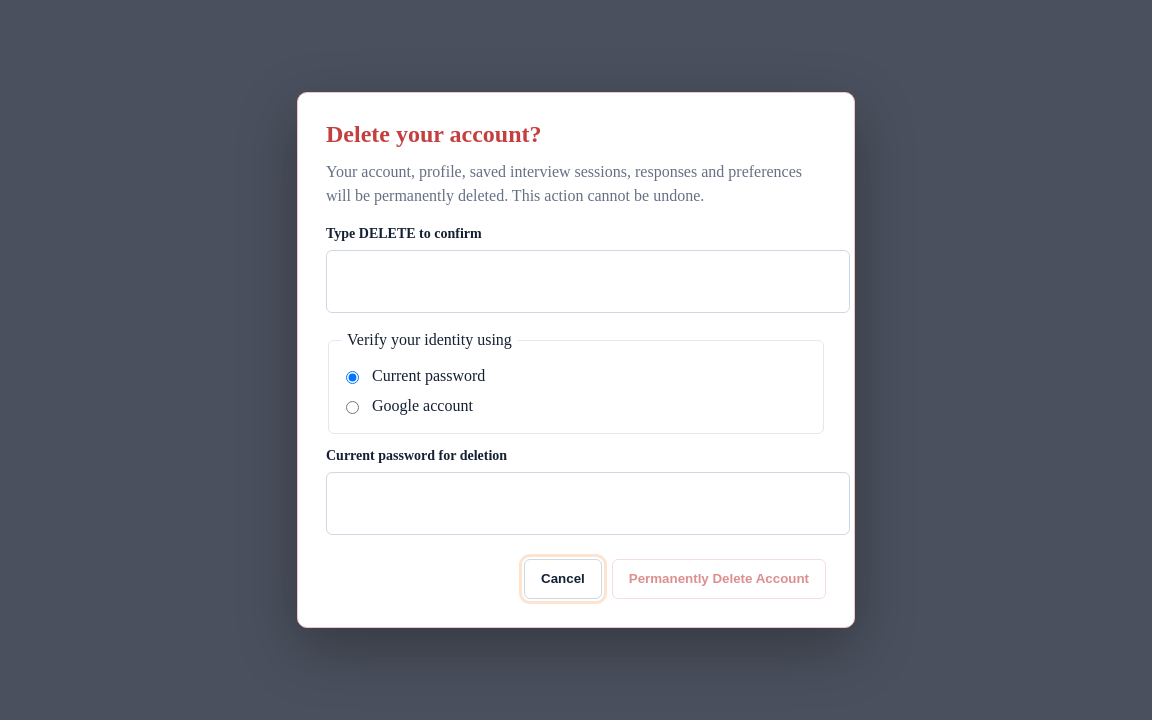
Scenario: requires exact DELETE and password
This screenshot has width=1152, height=720.
Expected: the button "Permanently Delete Account" is disabled, x1=612 y1=559 x2=826 y2=599
Type "delete" into the field labelled "Type DELETE to confirm". click: (588, 282)
box: x1=326 y1=250 x2=850 y2=313
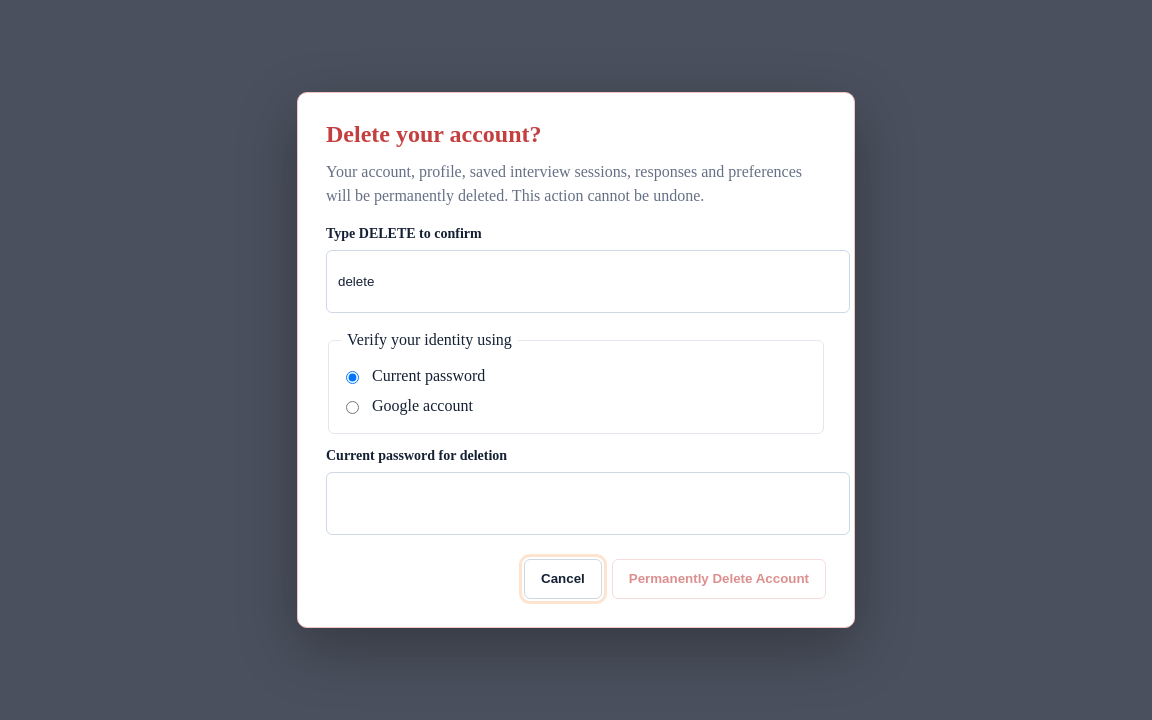
Expected: the button "Permanently Delete Account" is disabled, x1=612 y1=559 x2=826 y2=599
Replace the text in the field labelled "Type DELETE to confirm" with "DELETE". click: (588, 282)
box: x1=326 y1=250 x2=850 y2=313
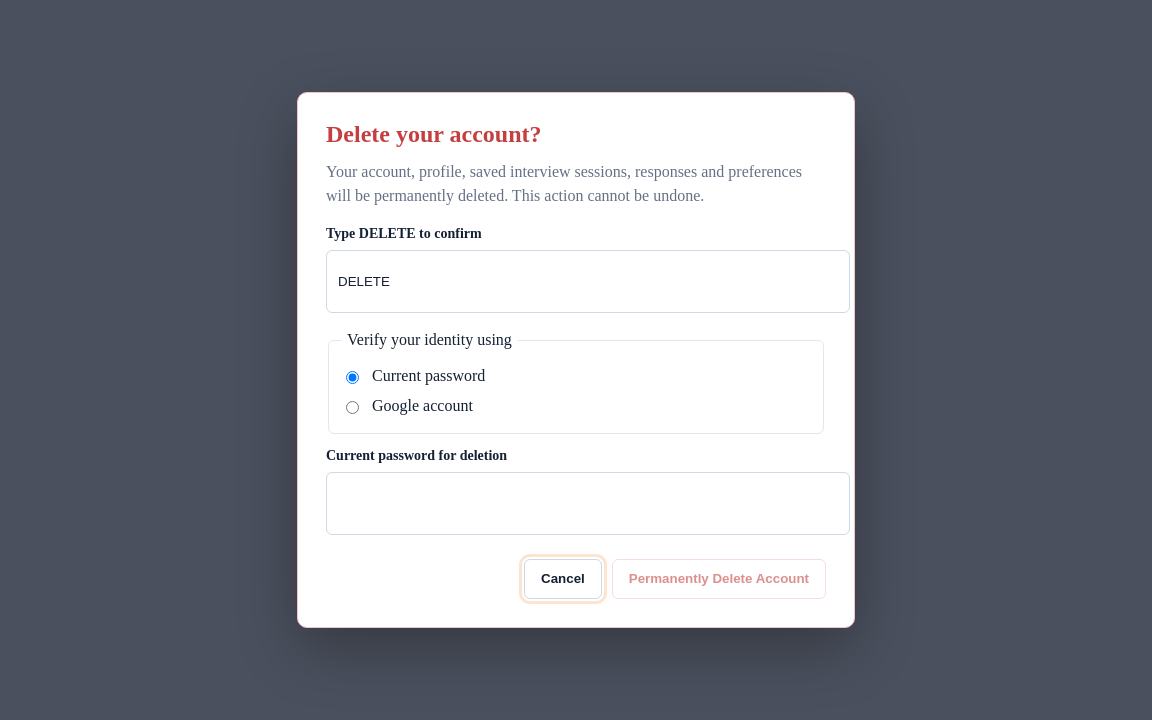
Expected: the button "Permanently Delete Account" is disabled, x1=612 y1=559 x2=826 y2=599
Type "my-password" into the password field labelled "Current password for deletion". click: (588, 504)
box: x1=326 y1=472 x2=850 y2=535
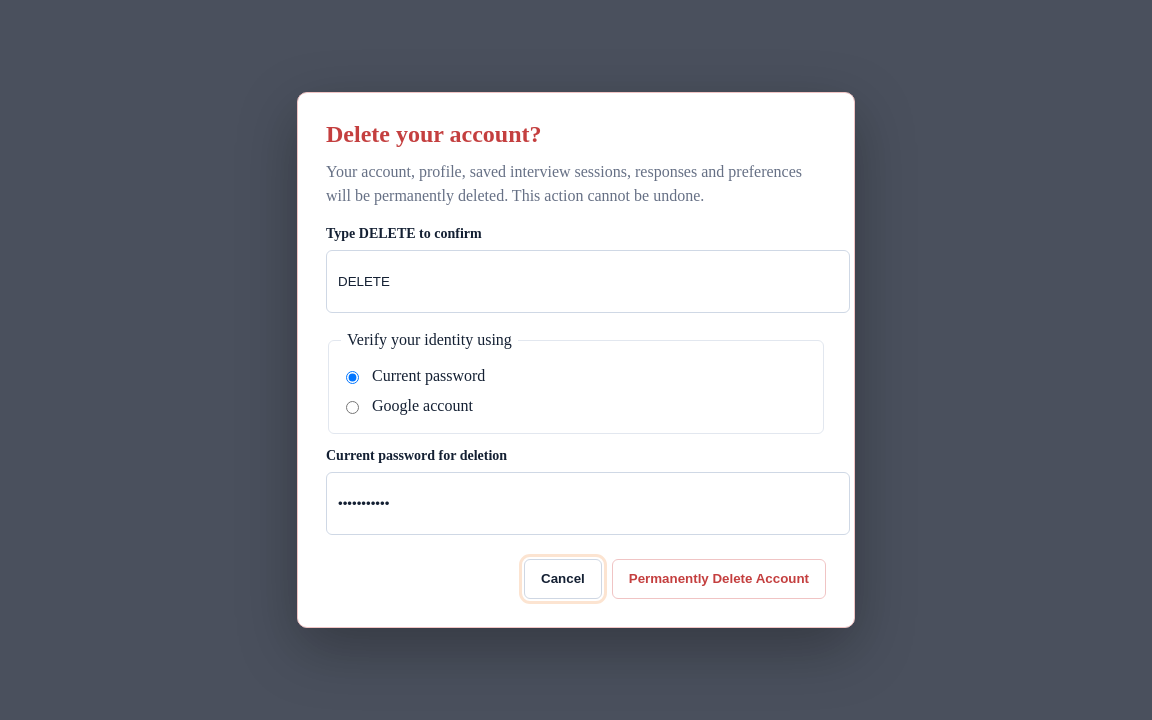
Expected: the button "Permanently Delete Account" is enabled, x1=612 y1=559 x2=826 y2=599
